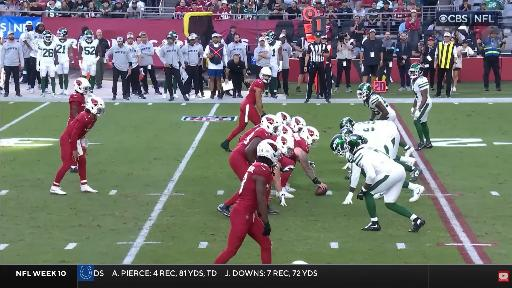Helmet: (257, 140, 280, 165), (275, 134, 294, 157), (345, 135, 365, 155), (86, 96, 105, 116), (300, 127, 319, 146), (261, 115, 279, 134), (331, 134, 345, 157), (74, 78, 90, 94), (357, 83, 372, 100), (408, 63, 423, 79), (291, 117, 306, 132), (276, 112, 291, 125), (260, 67, 271, 83), (278, 125, 293, 136), (340, 118, 355, 129), (340, 128, 353, 140), (56, 28, 67, 39), (43, 30, 52, 42), (84, 30, 93, 42), (266, 31, 275, 43), (169, 31, 177, 39)
Jersey: (353, 144, 402, 184), (236, 163, 272, 212), (354, 121, 398, 154), (62, 112, 97, 143), (234, 127, 271, 152), (354, 121, 397, 141), (242, 79, 265, 106), (412, 76, 431, 107), (367, 92, 392, 115), (69, 92, 85, 119), (39, 41, 56, 66), (80, 39, 98, 62), (55, 39, 72, 62), (239, 124, 260, 142), (293, 133, 309, 153), (269, 41, 281, 65), (175, 40, 183, 47)
Player: (214, 140, 280, 264), (345, 135, 425, 231), (331, 128, 424, 201), (50, 97, 105, 194), (340, 118, 421, 181), (221, 68, 271, 151), (229, 115, 279, 181), (278, 127, 326, 190), (409, 64, 432, 150), (78, 30, 102, 95), (36, 30, 58, 97), (357, 83, 395, 121), (56, 28, 74, 95), (266, 31, 282, 97), (68, 78, 90, 124), (277, 155, 296, 197), (238, 124, 260, 143), (290, 117, 306, 133), (291, 117, 306, 132), (276, 112, 291, 126)
